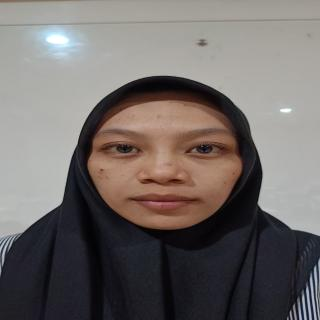Netral: (83, 85, 249, 237)
